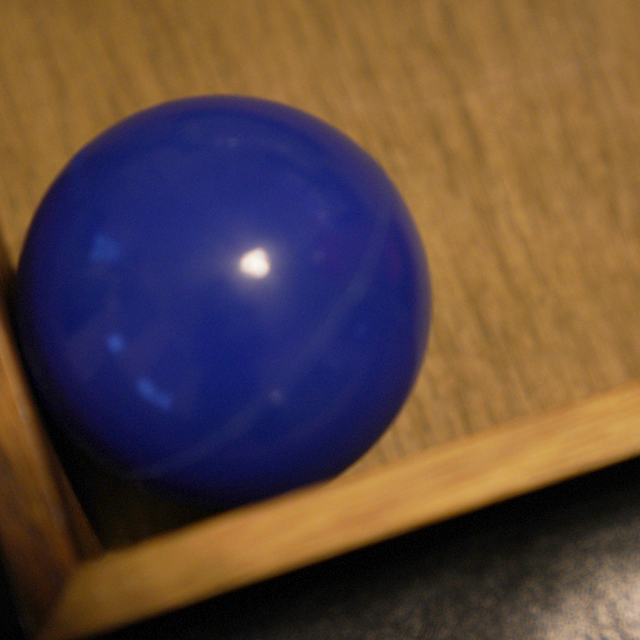Ball: (1, 96, 434, 500)
